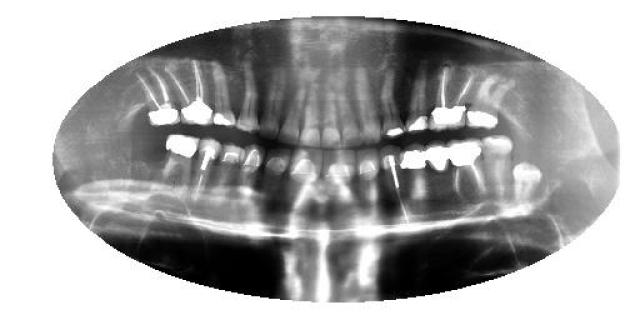Fillings: (466, 74, 515, 131), (161, 130, 199, 188), (212, 62, 238, 132), (380, 68, 405, 138), (407, 66, 428, 135), (400, 142, 426, 178), (425, 141, 450, 175)
Implant: (165, 60, 213, 129), (430, 65, 475, 133), (135, 66, 181, 128), (448, 136, 487, 202), (382, 144, 412, 228), (192, 138, 222, 204)
